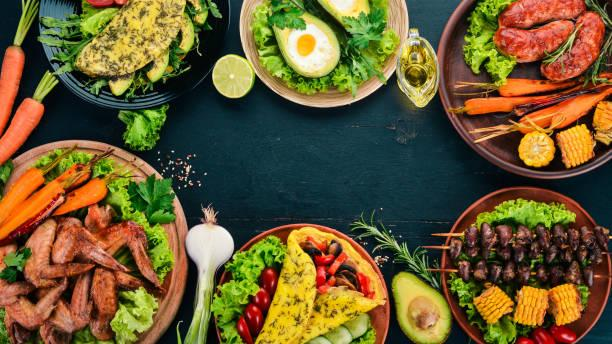Braised Crucian Carp: (3, 140, 190, 342), (436, 3, 609, 180), (442, 189, 607, 343), (216, 224, 387, 343), (39, 0, 223, 110), (239, 1, 409, 109)
